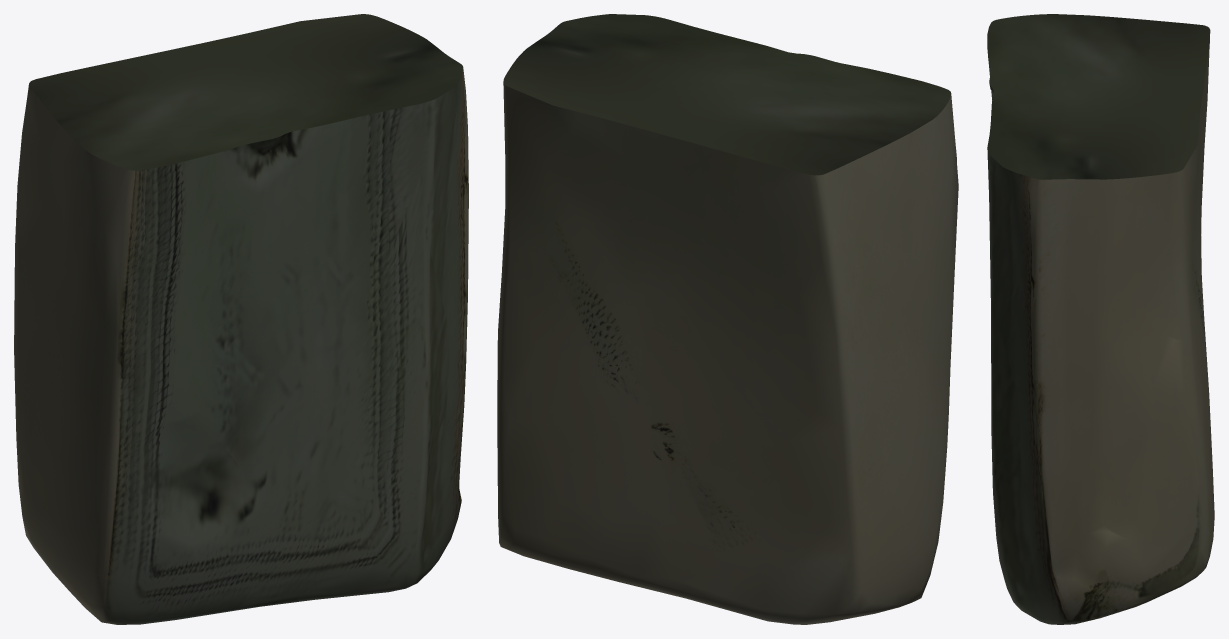
File: DetachableSegment-Mated-LOD1.glb
3 renders of one model, left to right at view 1: azimuth 30°, elevation 25°; view 2: azimuth 150°, elevation 25°; view 3: azimuth 270°, elevation 25°, orthographic. The views are drawn at different scales.
Parts seen in each view (by area): view 1: DetachableSegment_Joined_LOD1; view 2: DetachableSegment_Joined_LOD1; view 3: DetachableSegment_Joined_LOD1.
Boxes of the visible parts, box(x1,y1,x2,y2) form: DetachableSegment_Joined_LOD1: box(14, 14, 468, 624); DetachableSegment_Joined_LOD1: box(497, 14, 958, 624); DetachableSegment_Joined_LOD1: box(987, 14, 1214, 624).
Size of the model in its own units: 0.0145 by 0.018 by 0.00807.
1 material, 1 textured.
